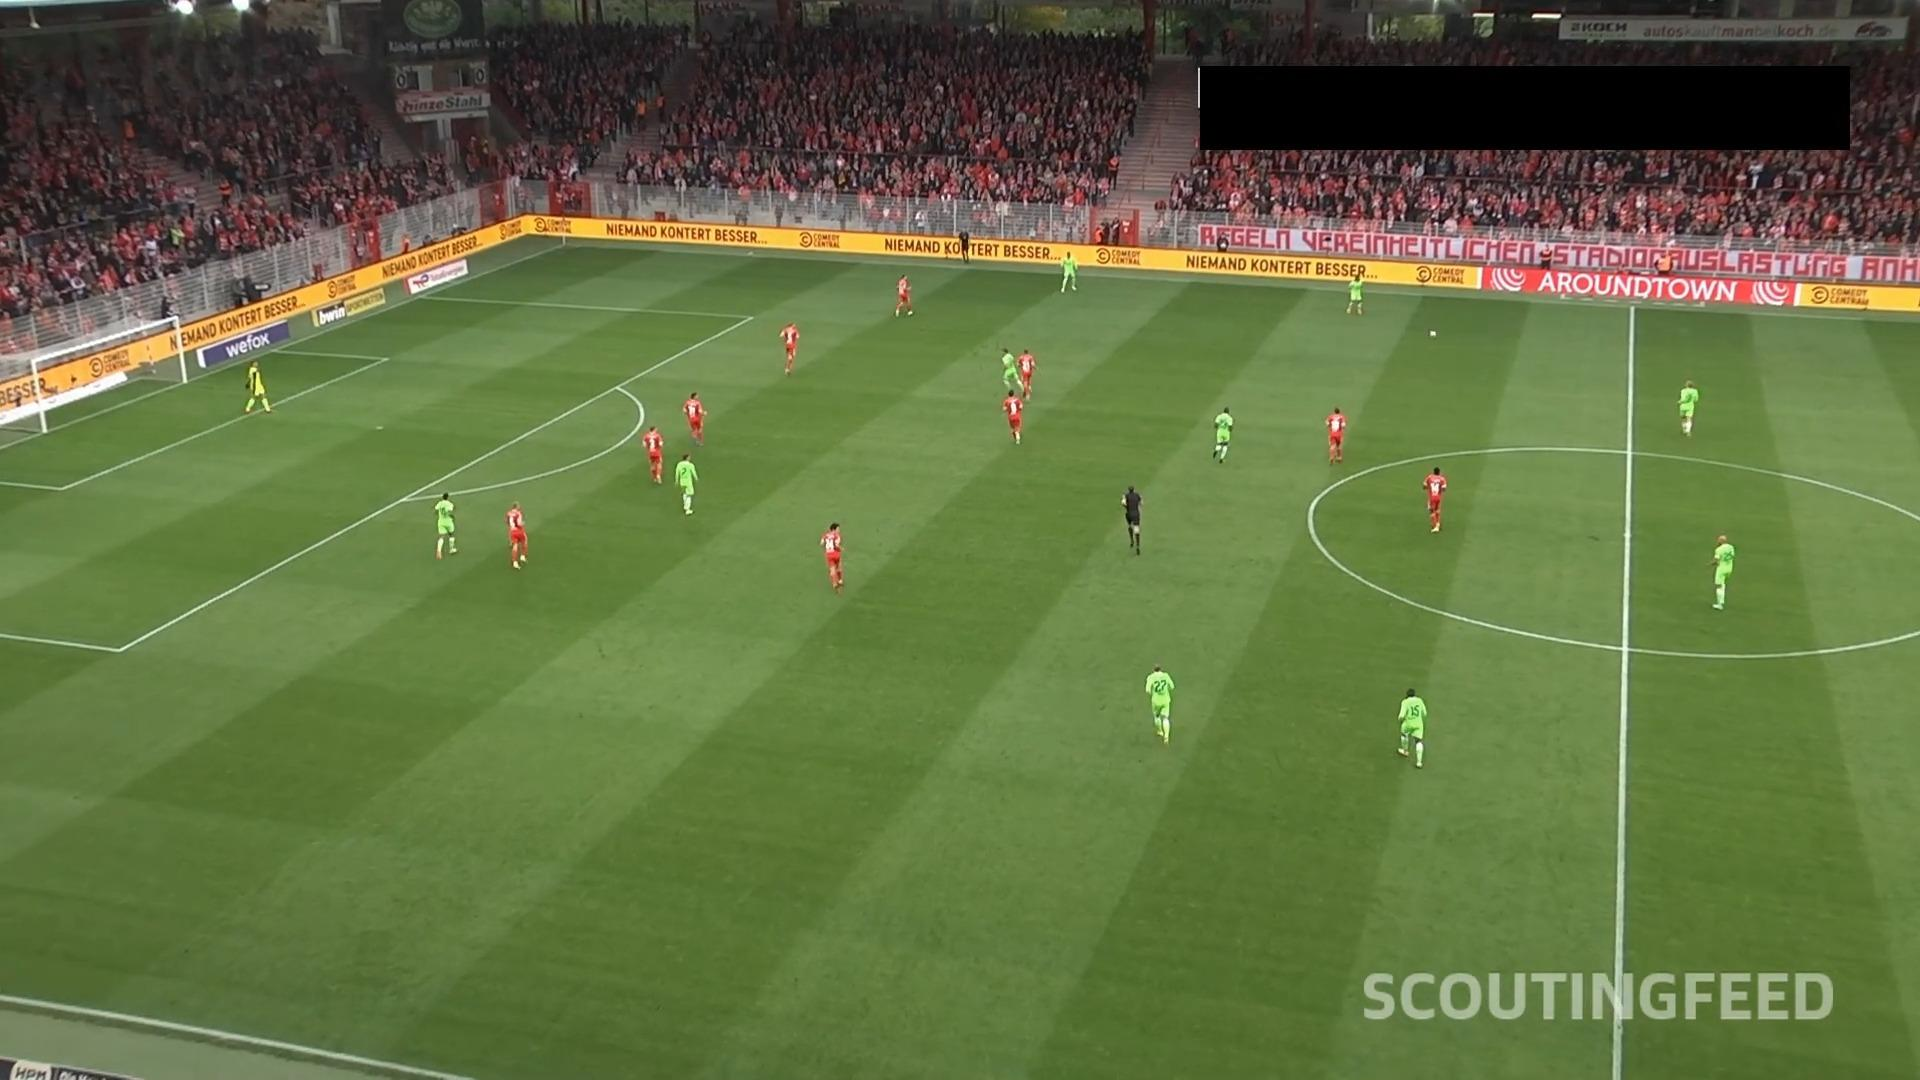ball: (1425, 327, 1439, 342)
